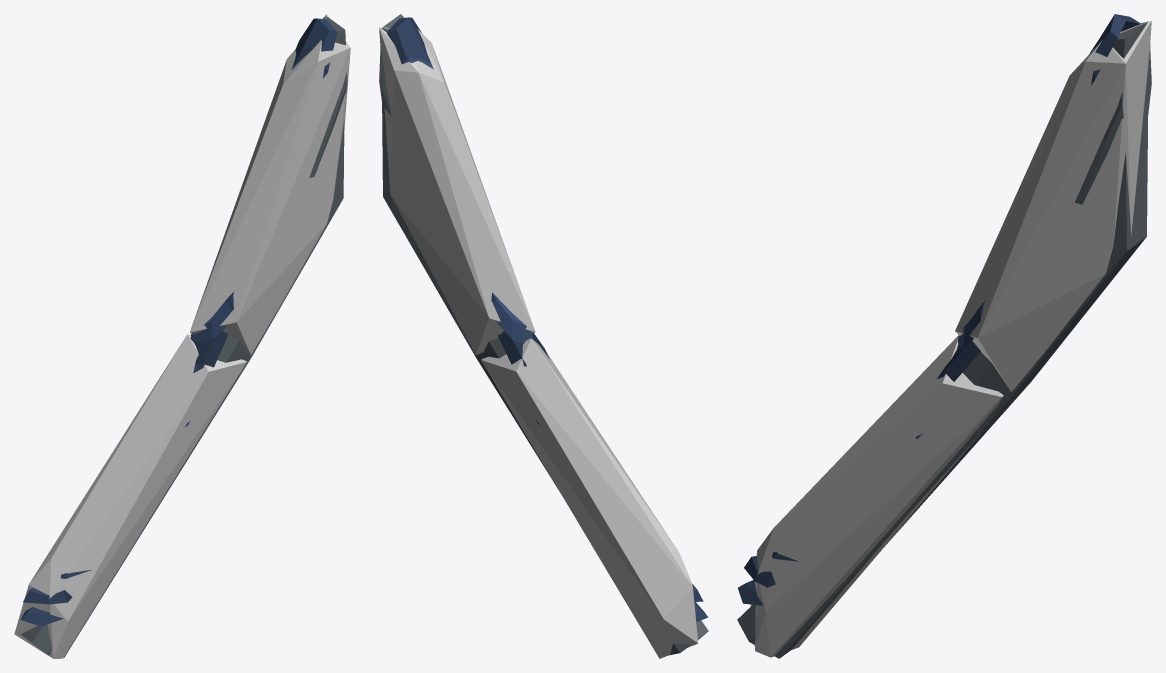
File: SM_Bld_Roof_End_Straight_Peak_01.fbx
3 renders of one model, left to right at view 1: azimuth 30°, elevation 25°; view 2: azimuth 150°, elevation 25°; view 3: azimuth 330°, elevation 25°, orthographic. The views are drawn at different scales.
Visible parts, largest first — view 1: SM_Bld_Roof_End_Straight_Peak_01_ConvexHulls, SM_Bld_Roof_End_Straight_Peak_01; view 2: SM_Bld_Roof_End_Straight_Peak_01_ConvexHulls, SM_Bld_Roof_End_Straight_Peak_01; view 3: SM_Bld_Roof_End_Straight_Peak_01_ConvexHulls, SM_Bld_Roof_End_Straight_Peak_01.
Part boxes in pixels (box(x1,y1,x2,y2)): SM_Bld_Roof_End_Straight_Peak_01_ConvexHulls: box(14, 14, 350, 658); SM_Bld_Roof_End_Straight_Peak_01: box(20, 16, 347, 657); SM_Bld_Roof_End_Straight_Peak_01_ConvexHulls: box(379, 27, 698, 658); SM_Bld_Roof_End_Straight_Peak_01: box(379, 14, 708, 655); SM_Bld_Roof_End_Straight_Peak_01_ConvexHulls: box(750, 20, 1151, 657); SM_Bld_Roof_End_Straight_Peak_01: box(737, 14, 1151, 658).
Bounding box in the file's own units: 272 × 42.62 × 466.
2 materials, 1 textured.
